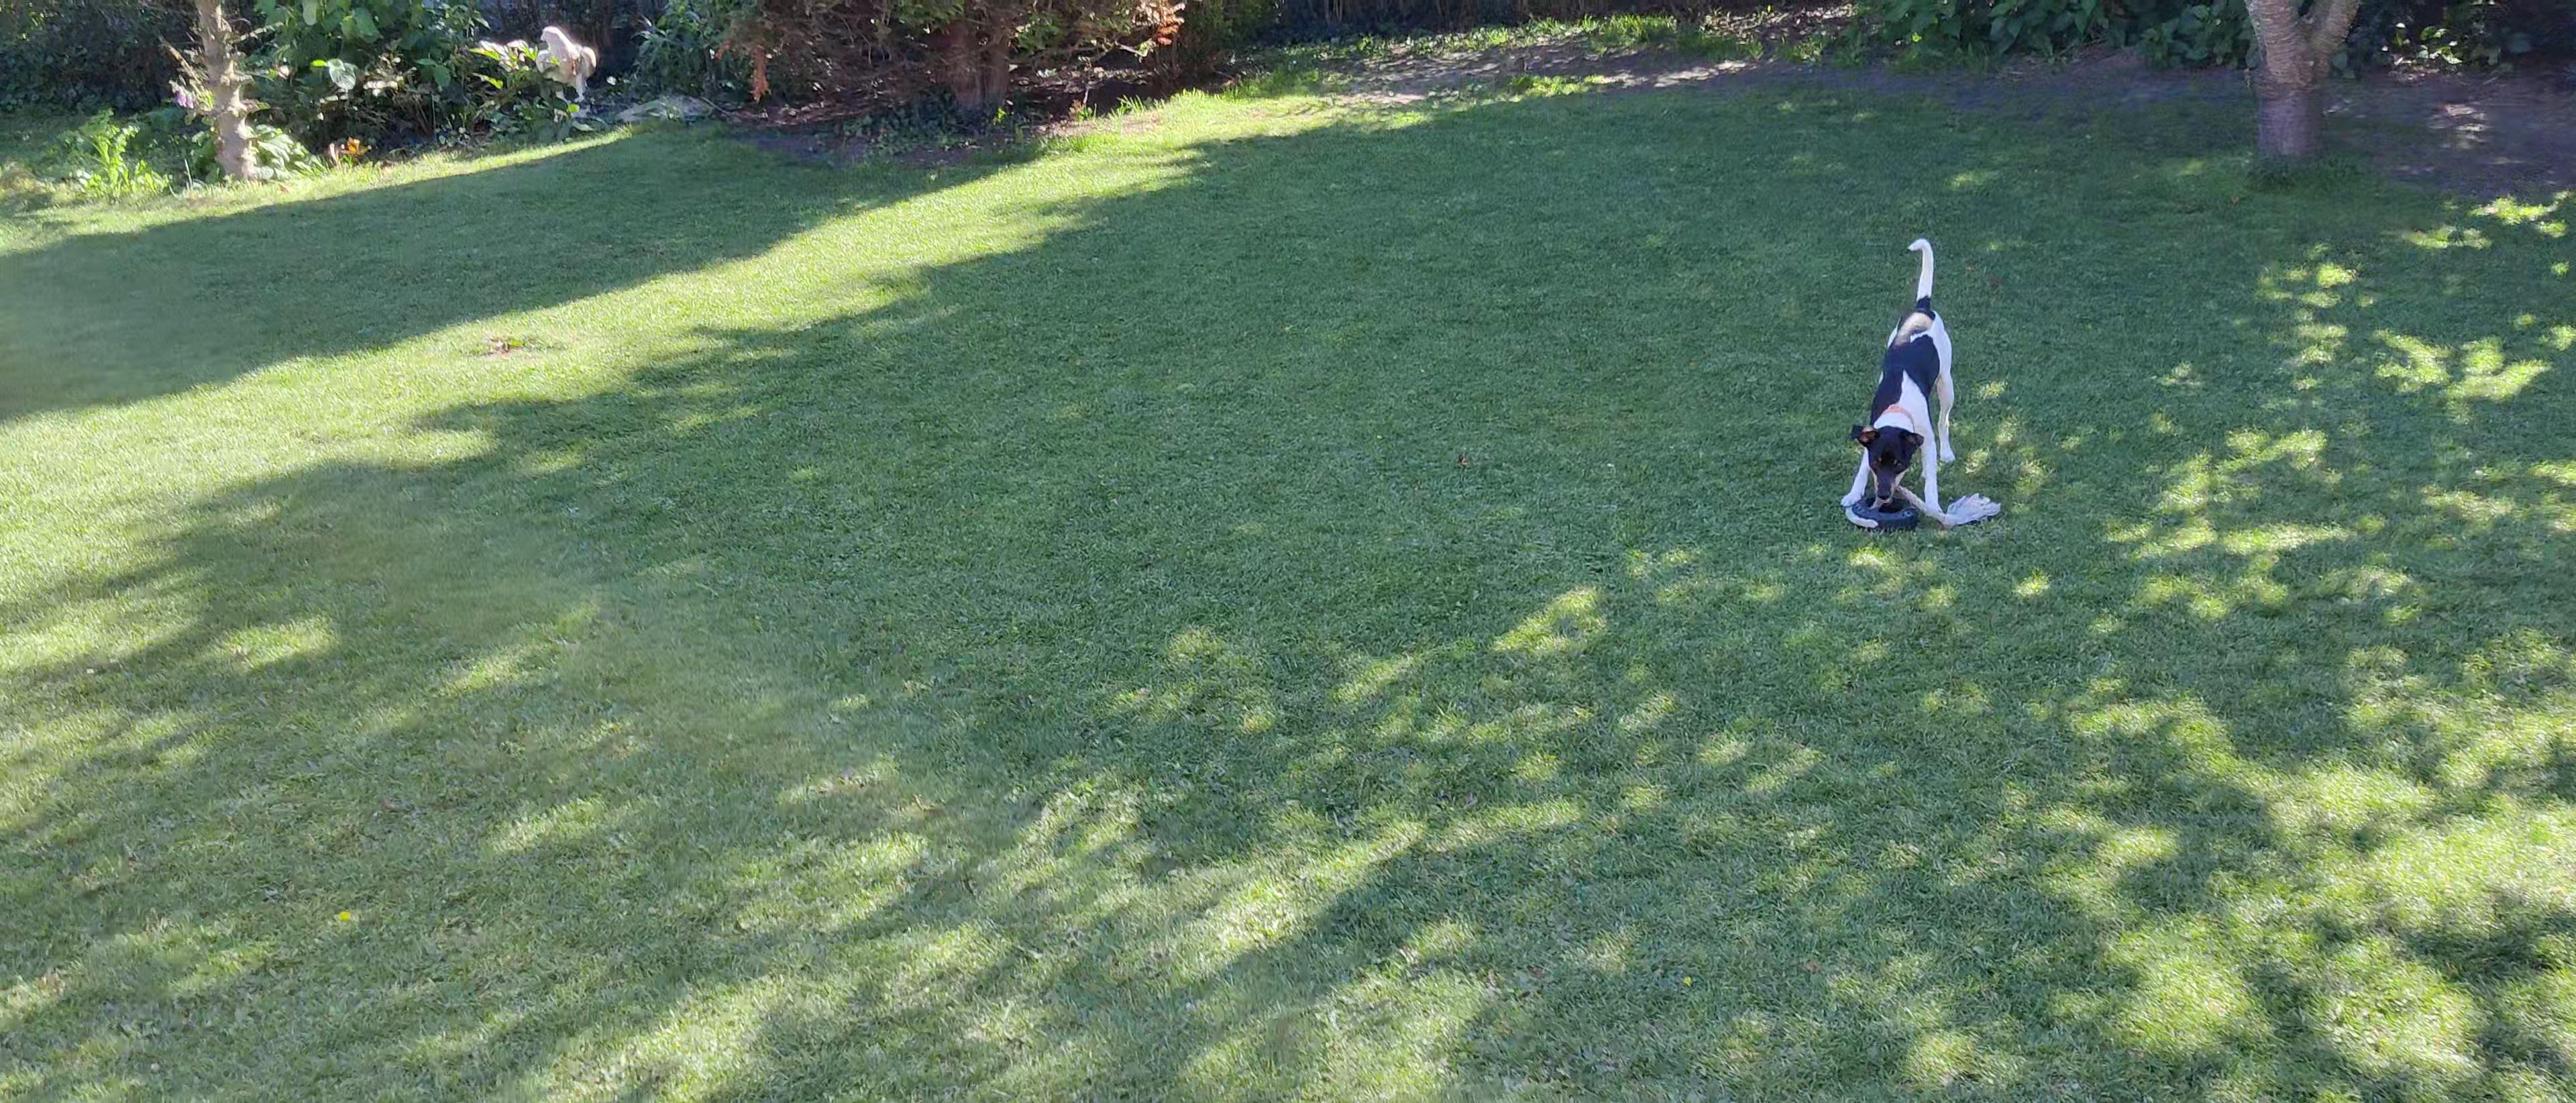Dog: (1837, 232, 1966, 538)
